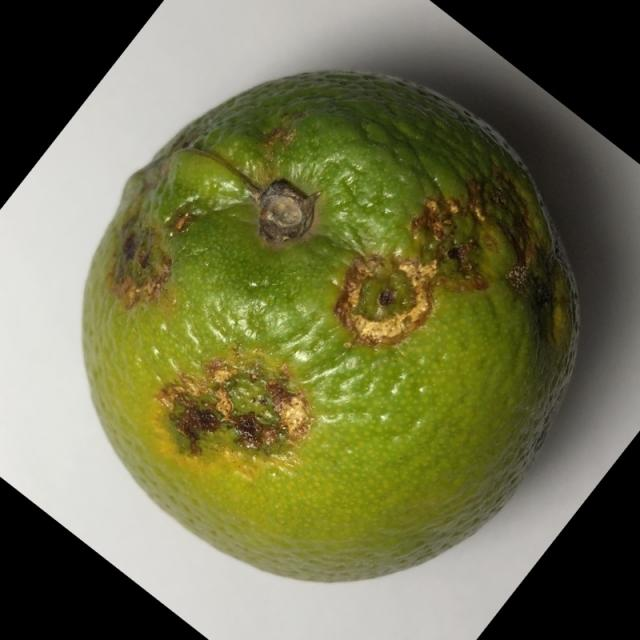canker: (68, 58, 599, 605)
